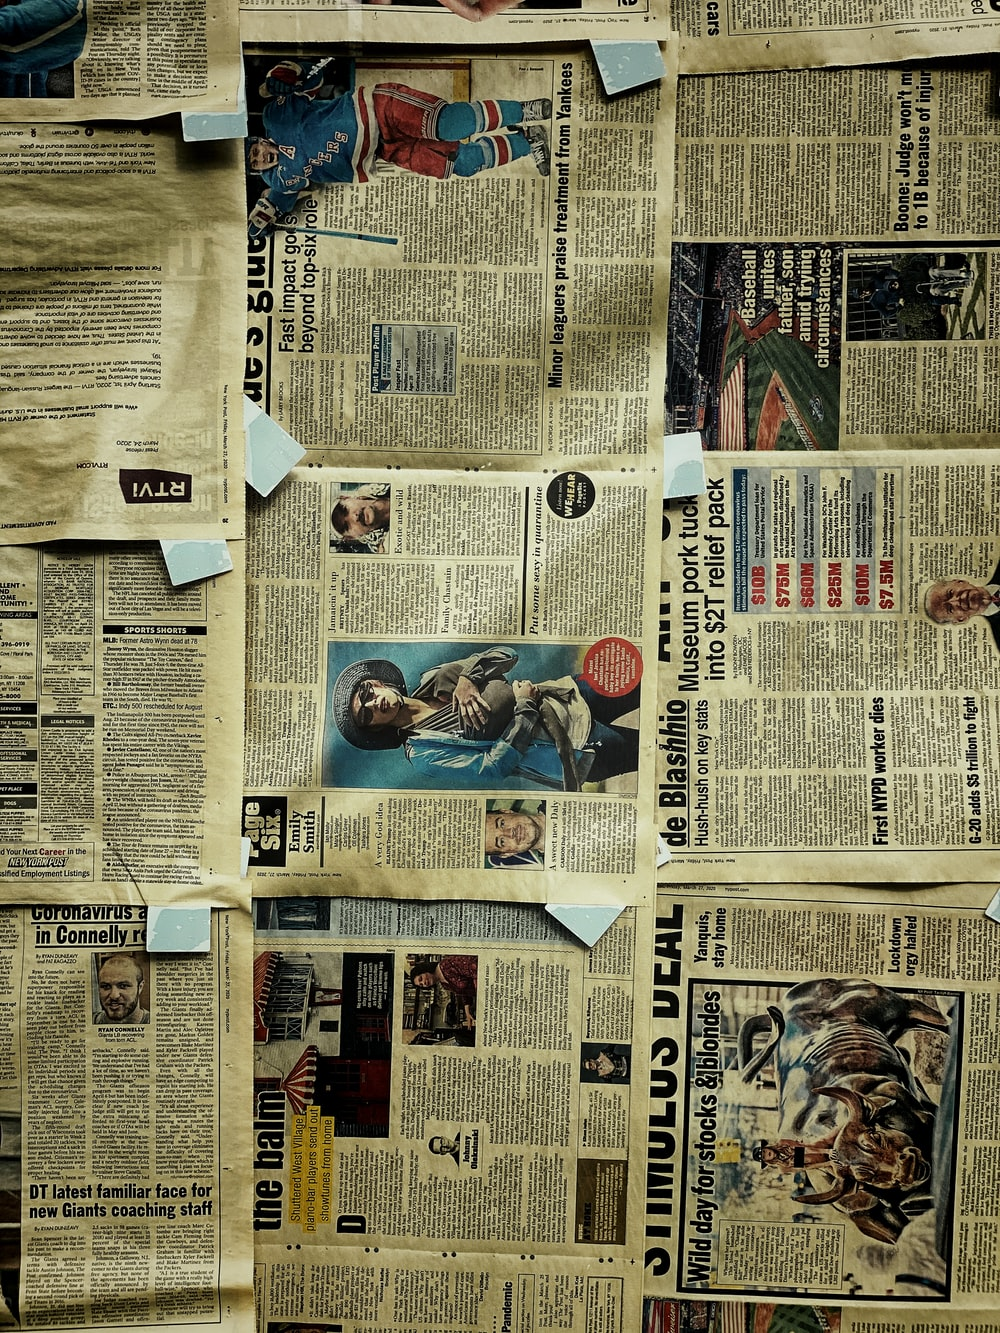news_paper: (572, 49, 1000, 952), (518, 700, 1000, 1327), (197, 449, 703, 982), (209, 8, 692, 555), (183, 821, 655, 1333), (4, 869, 308, 1333), (4, 470, 271, 971), (7, 105, 275, 584), (622, 3, 1000, 146), (5, 1, 250, 187)
